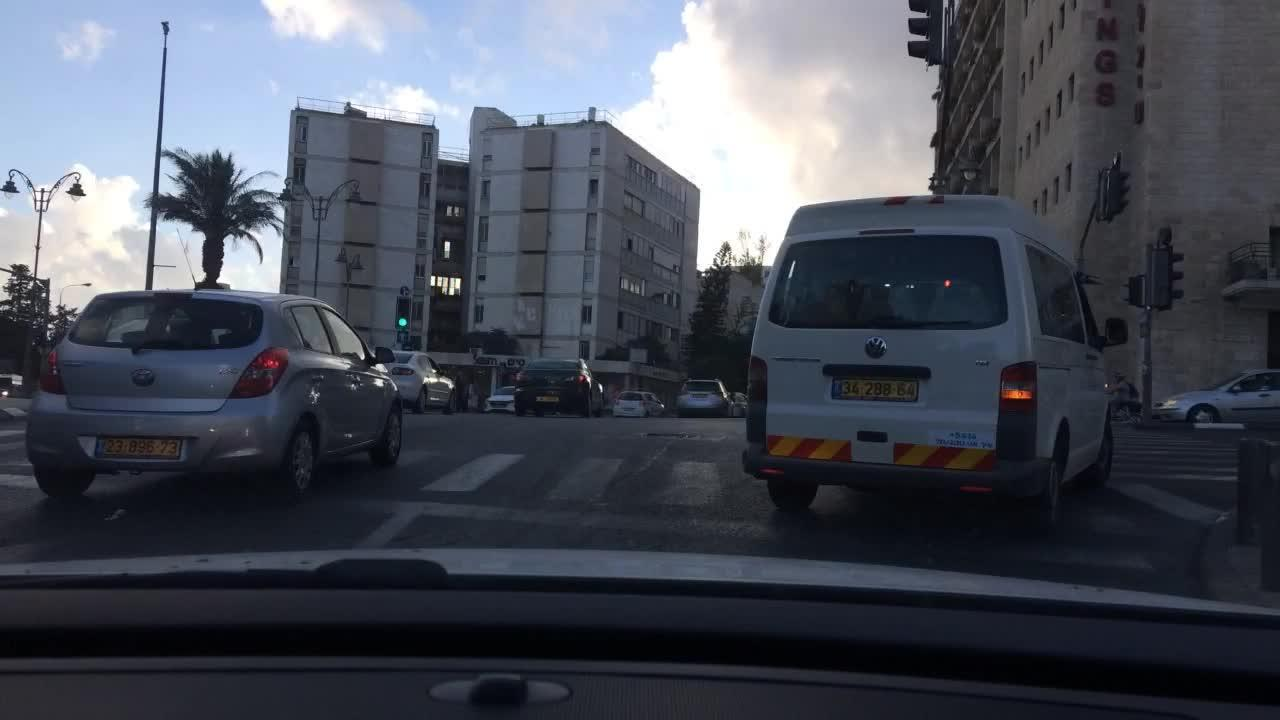Hyundai: (128, 364, 158, 391)
Volkswagen: (860, 332, 895, 365)
